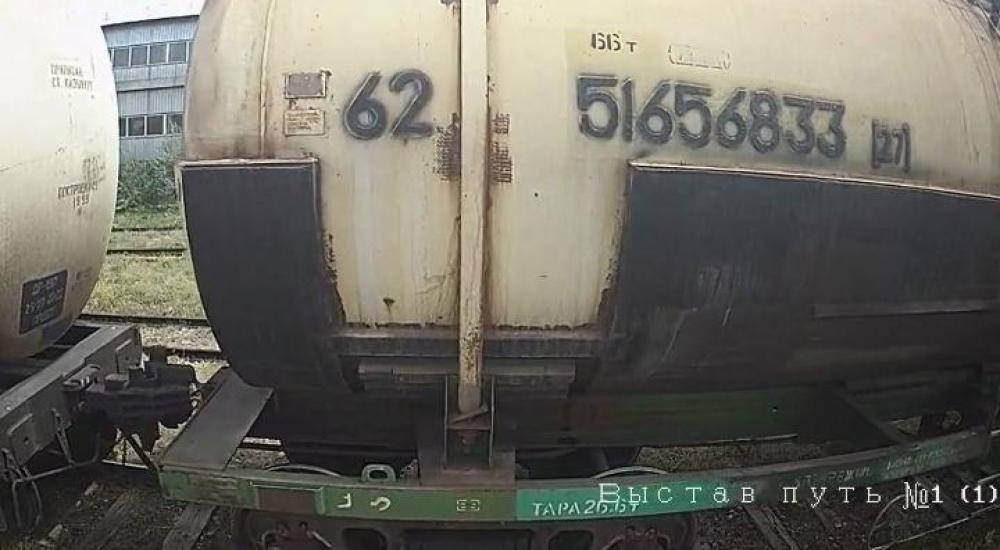Wagon-number: (572, 71, 853, 162)
